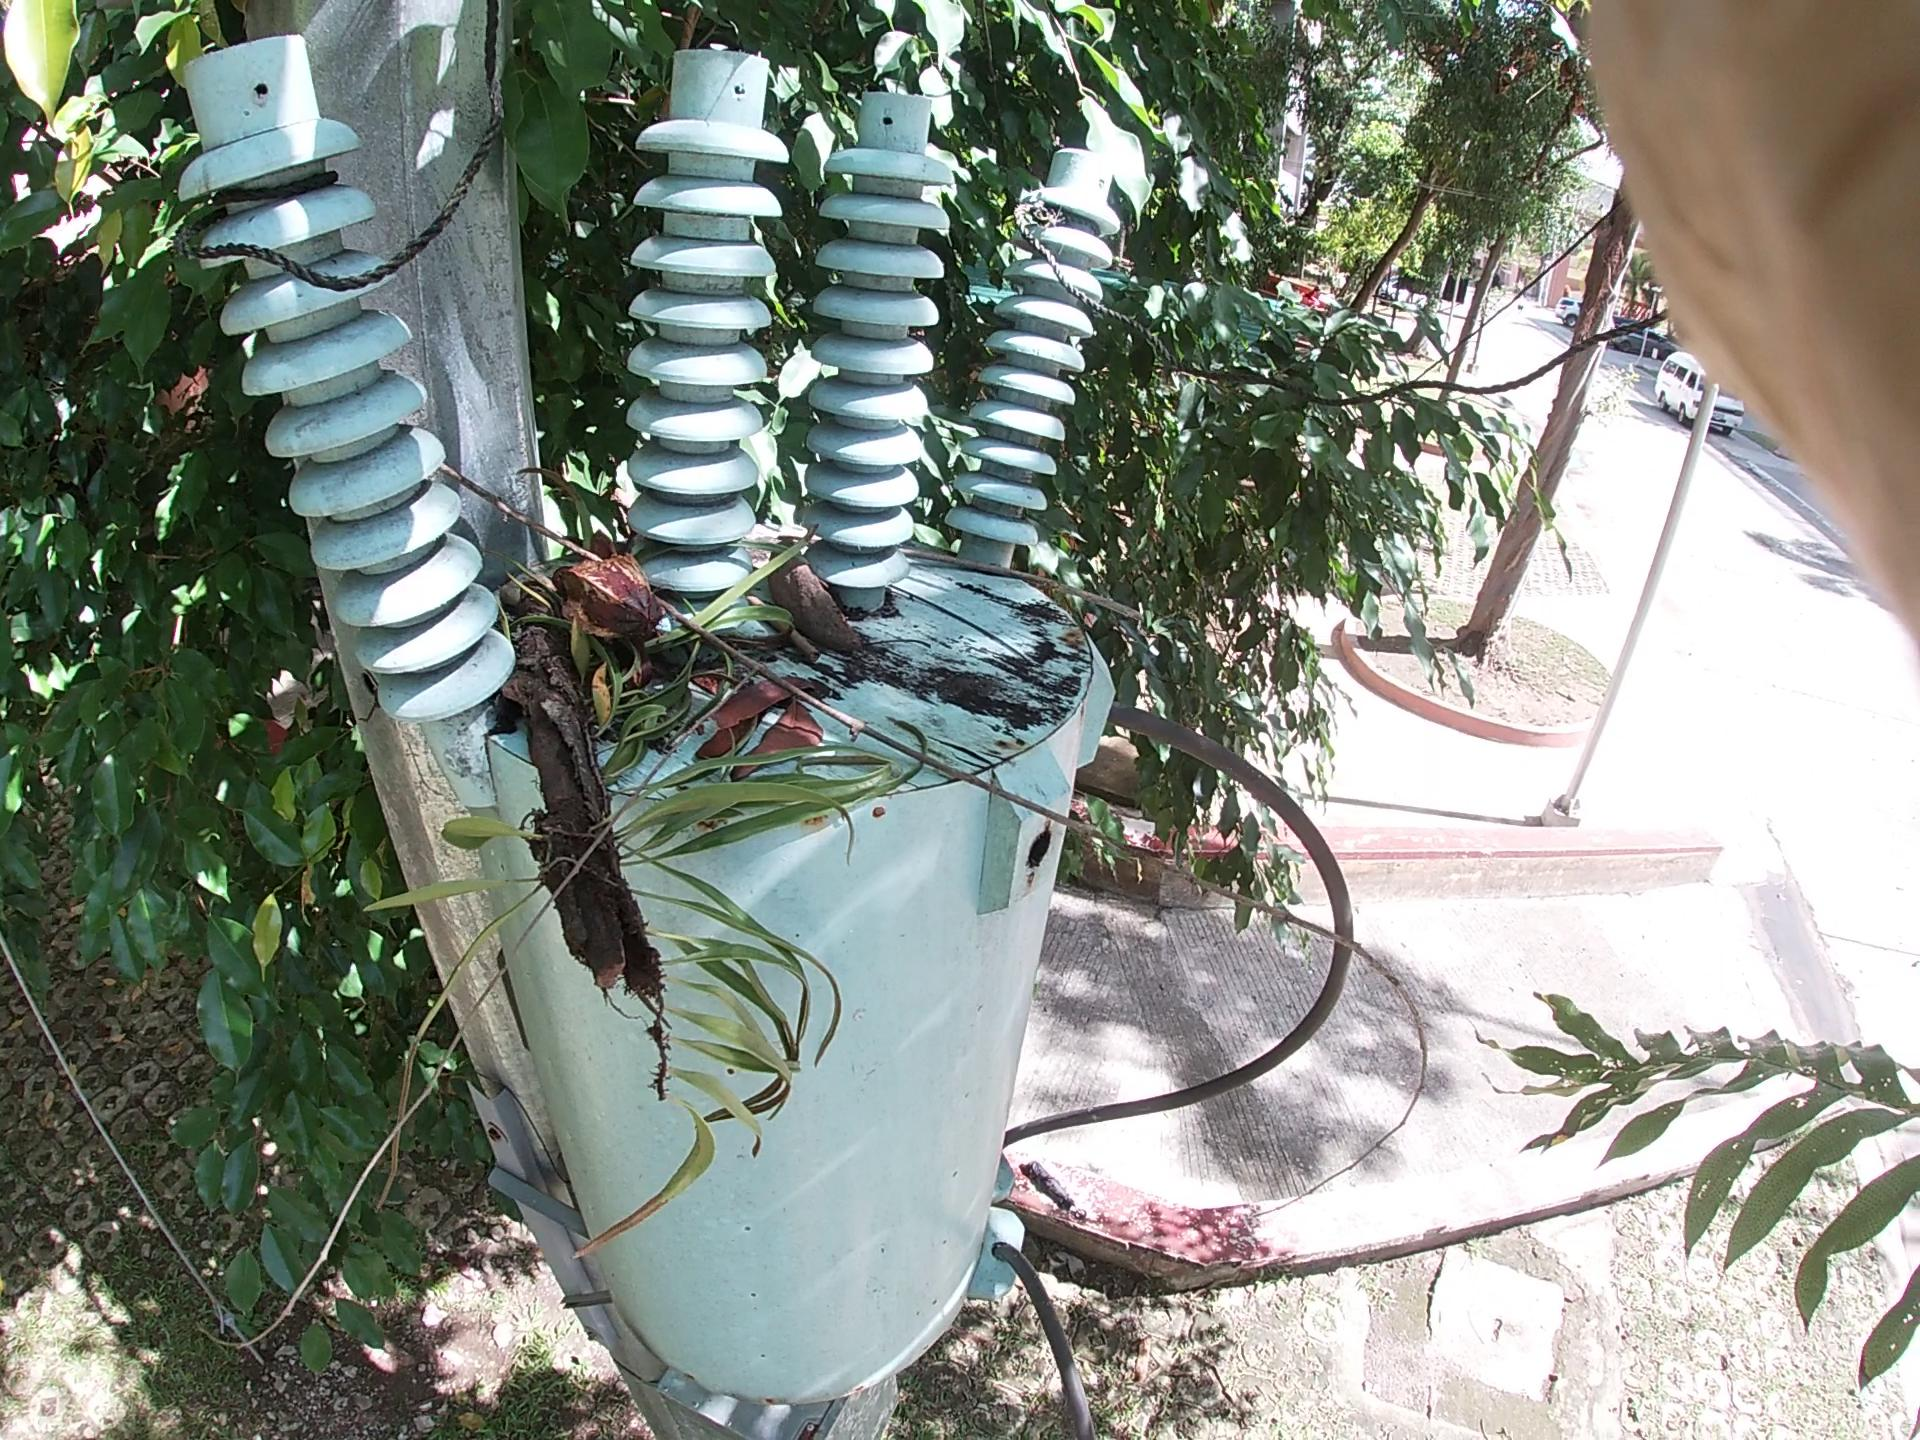branch with leaves: (425, 455, 754, 1010)
leaf: (485, 9, 1333, 511)
mahogany fruit: (543, 535, 735, 675), (763, 502, 884, 693)
tree branch: (395, 430, 1317, 942), (872, 493, 1299, 697)
